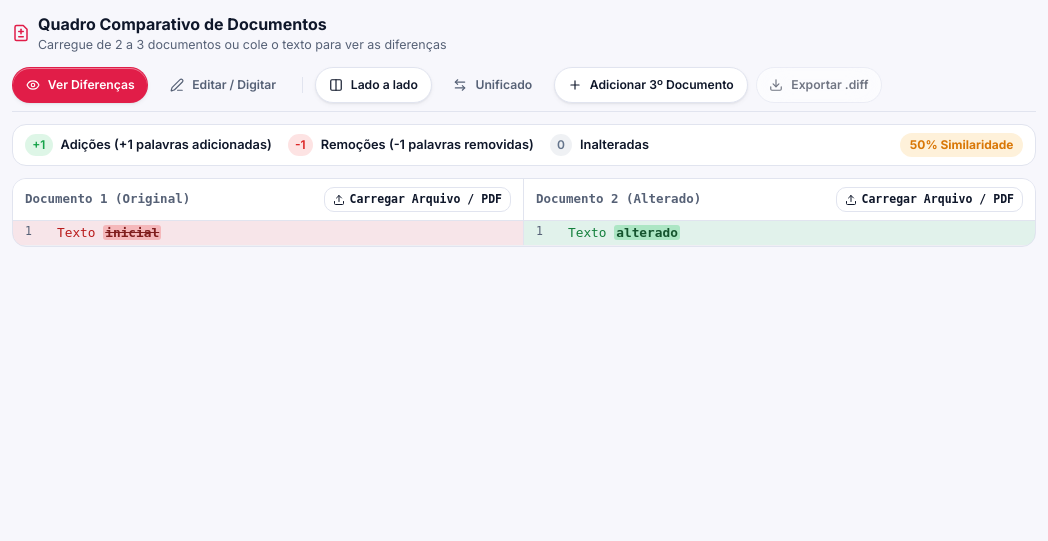
DocumentComparePanel - Comparador de 2 a 3 Documentos › permite alternar para modo de edição de texto
The width and height of the screenshot is (1048, 541).
Click the button "Editar / Digitar" at (223, 85), box 156,67 -> 290,103
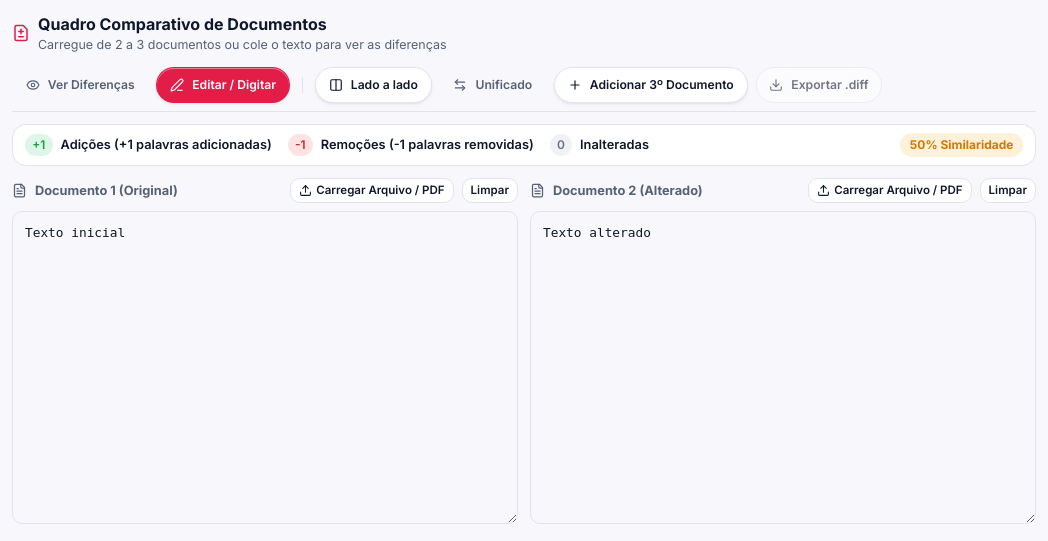
Now the 1st text box with class "doc-compare-textarea" is shown, box 12,211 -> 518,524
